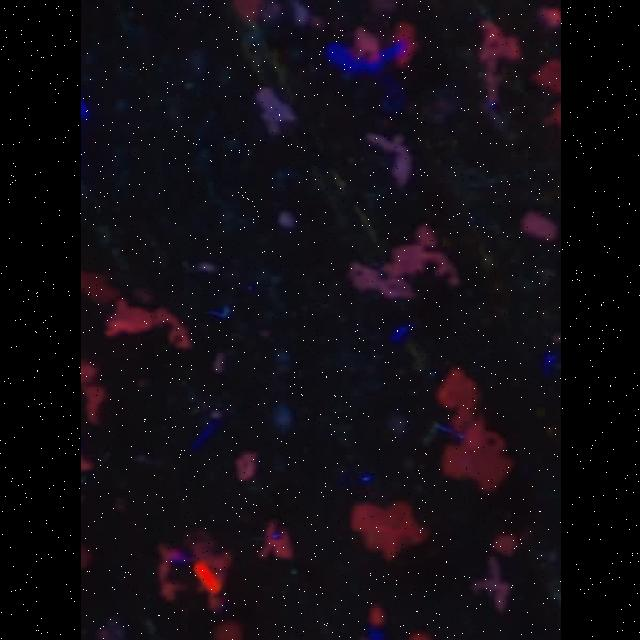Fragment: (342, 224, 462, 300)
